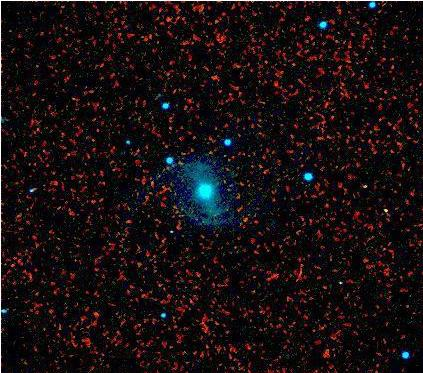star: (365, 191, 395, 221)
